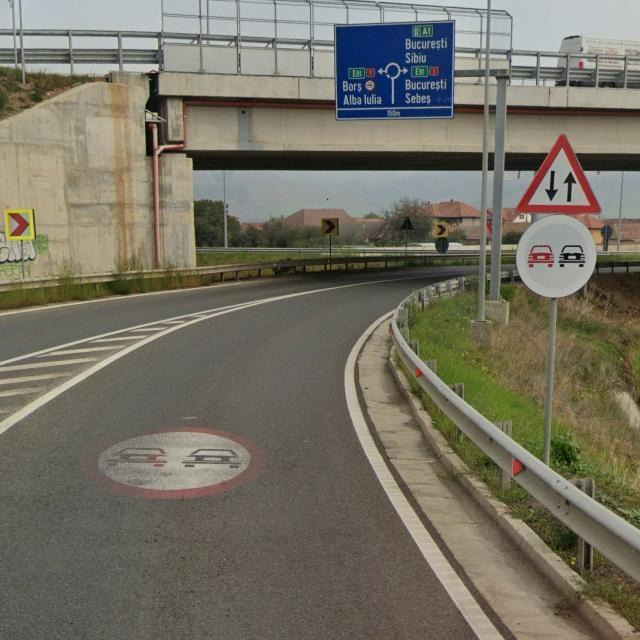forb_overtake: (81, 426, 270, 500), (517, 215, 597, 300)
